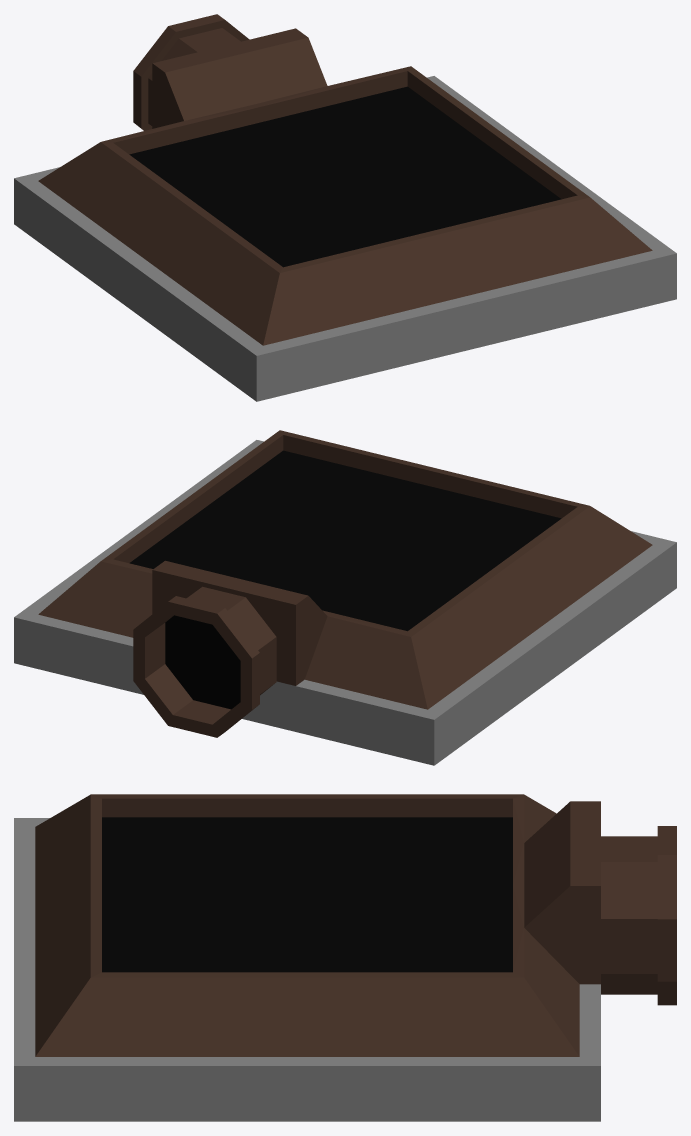
The model's file is BoostPad.fbx.
The picture shows the model from 3 angles, top to bottom: view 1: azimuth 30°, elevation 25°; view 2: azimuth 150°, elevation 25°; view 3: azimuth 270°, elevation 25°; orthographic projection. The views are drawn at different scales.
Visible parts, largest first — view 1: Cube.087, Cylinder.061; view 2: Cube.087, Cylinder.061; view 3: Cube.087, Cylinder.061.
Part boxes in pixels (<box>): Cube.087: <box>14,28,676,401</box>; Cylinder.061: <box>133,14,249,130</box>; Cube.087: <box>14,430,676,765</box>; Cylinder.061: <box>133,586,276,737</box>; Cube.087: <box>14,794,600,1121</box>; Cylinder.061: <box>601,826,676,1005</box>.
Bounding box in the file's own units: 130 × 38.37 × 147.
